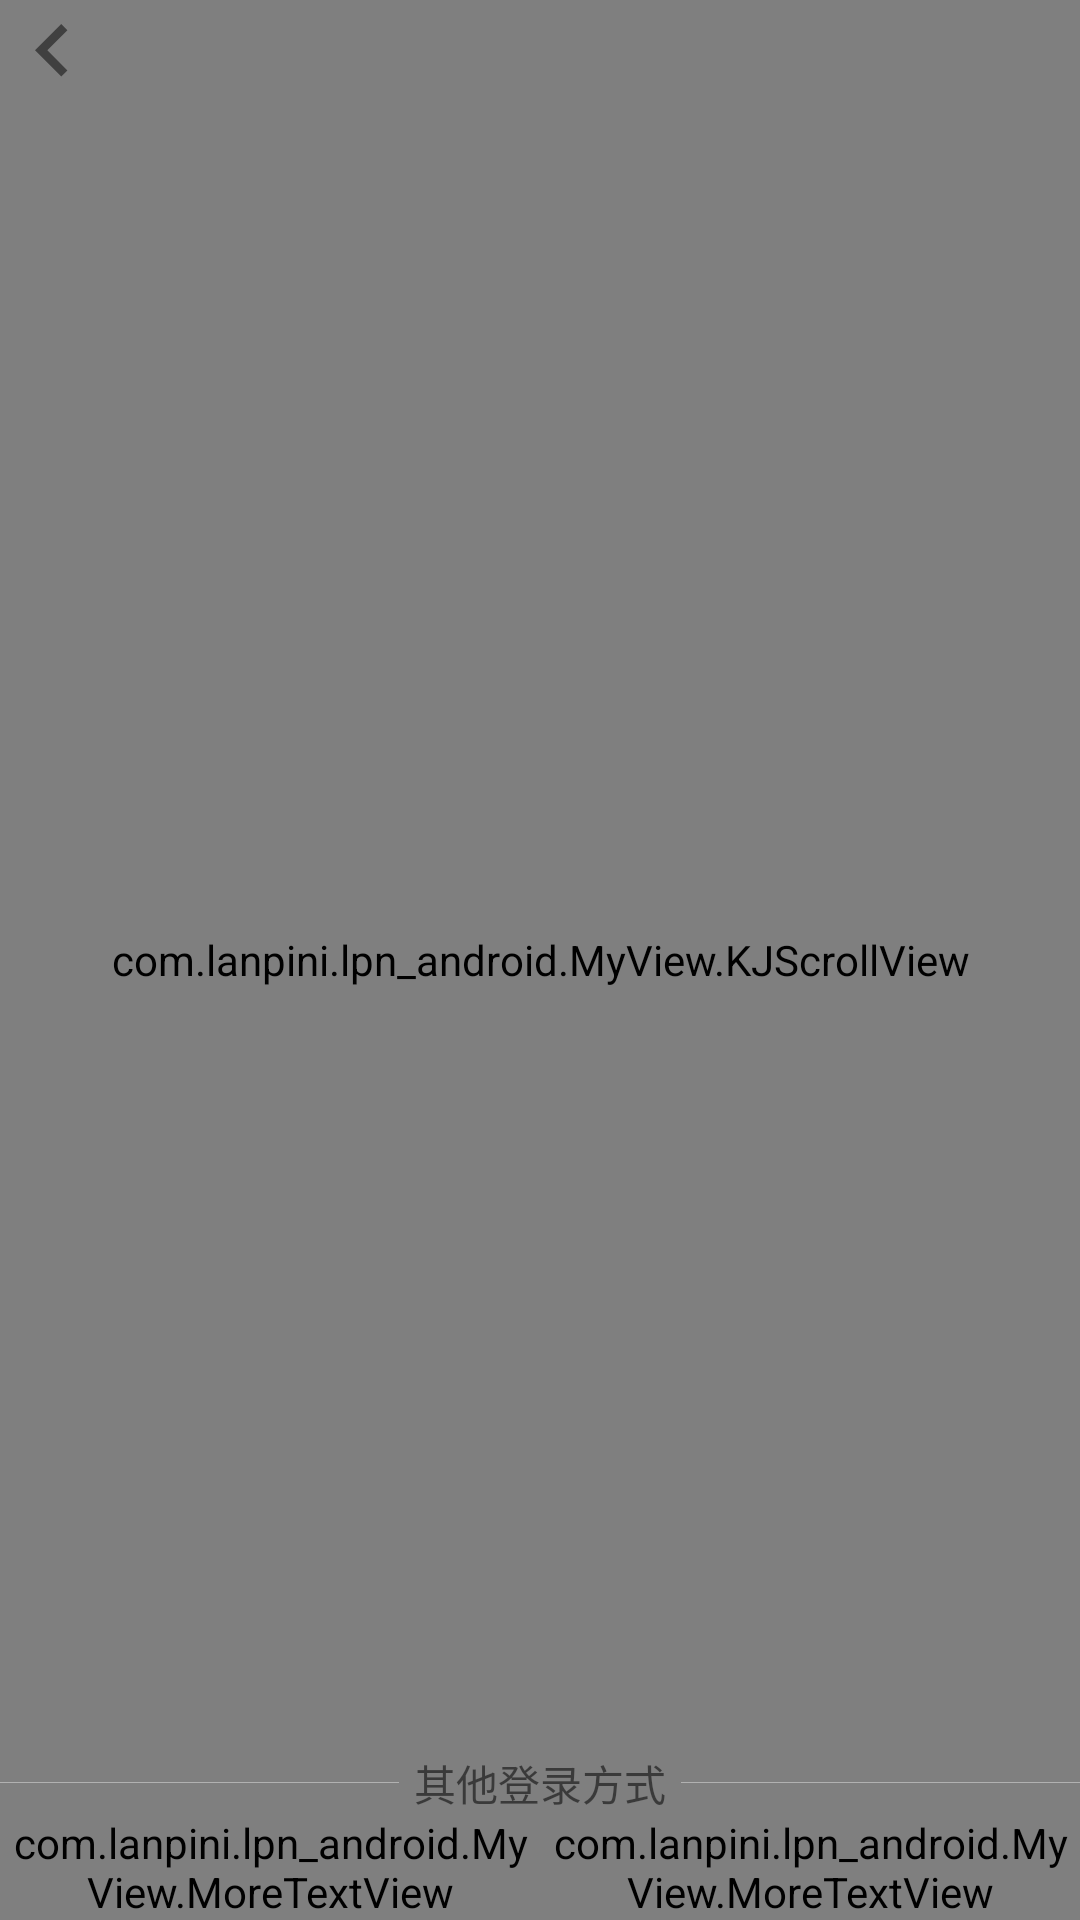

Where to tap for icons on this 1080 × 1920 app screen, as point (x, y):
left back: point (51, 50)
